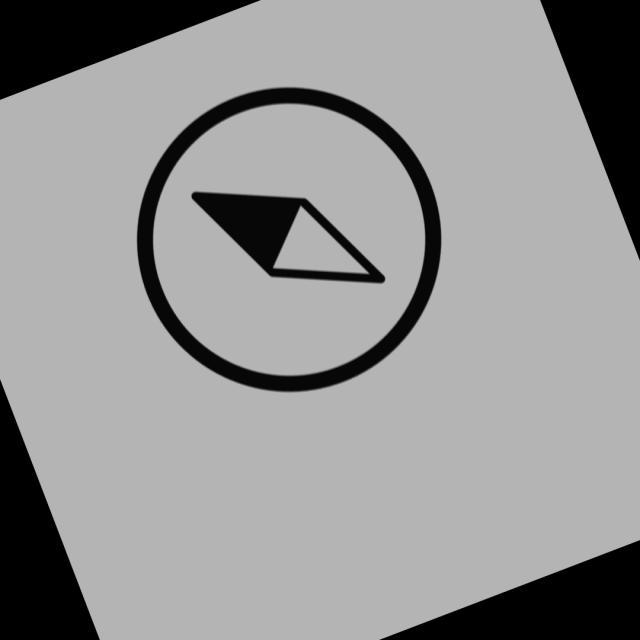compass: (130, 82, 450, 401)
